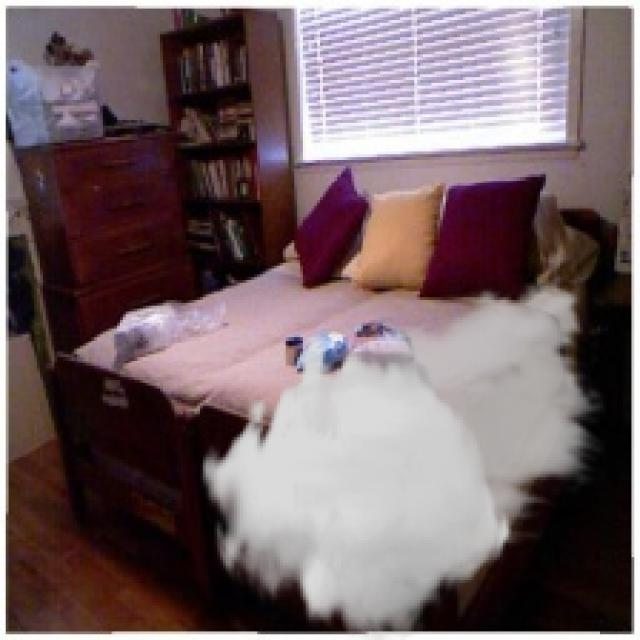smoke: (200, 266, 609, 637)
